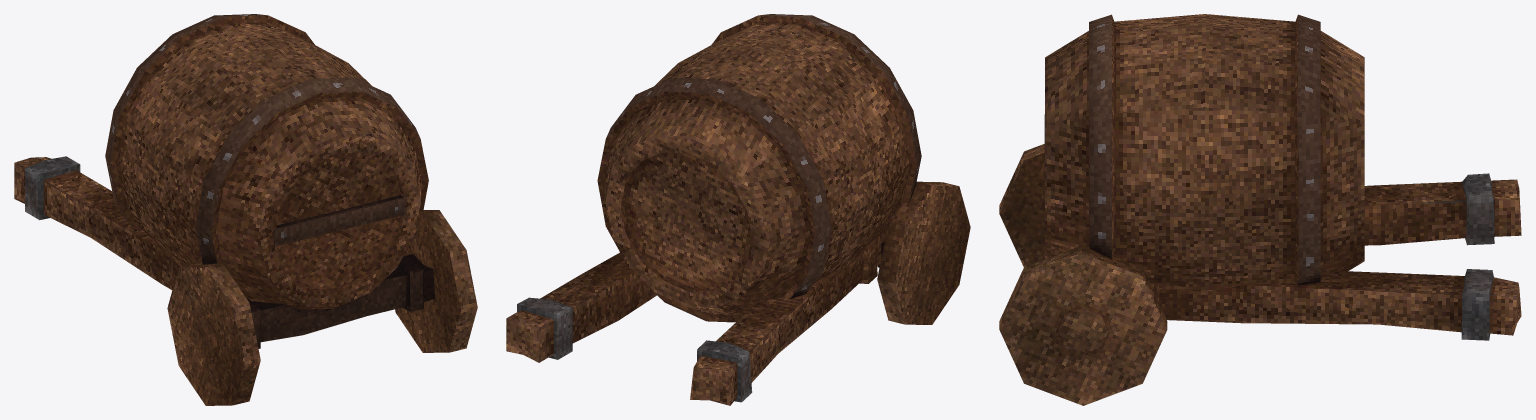
File: Barrel_3.gltf
3 views of the same model, side by side, from view 1: azimuth 30°, elevation 25°; view 2: azimuth 150°, elevation 25°; view 3: azimuth 270°, elevation 25° (orthographic). The views are drawn at different scales.
Visible parts, largest first — view 1: Barrel_3; view 2: Barrel_3; view 3: Barrel_3.
Part boxes in pixels (x1,y1,x2,y2): Barrel_3: (14, 14, 477, 405); Barrel_3: (506, 14, 970, 405); Barrel_3: (999, 14, 1521, 405).
Bounding box in the file's own units: 4.14 × 4.77 × 7.13.
1 material, 1 textured.
